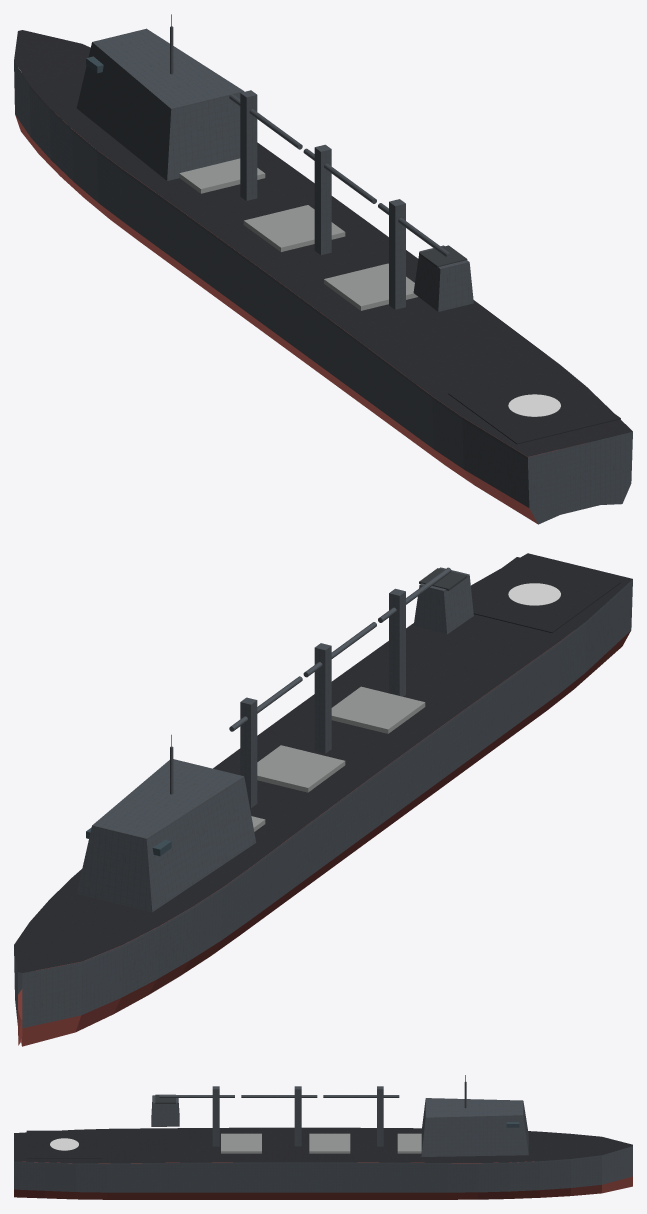
Rendered from type_panshi.glb.
3 renders of one model, top to bottom at view 1: azimuth 30°, elevation 25°; view 2: azimuth 150°, elevation 25°; view 3: azimuth 270°, elevation 25°, orthographic. The views are drawn at different scales.
Visible parts, largest first — view 1: panshi_hull, panshi_bridge, panshi_flightdeck, panshi_funnel, panshi_hatch1, panshi_hatch2, panshi_gantry0, panshi_gantry1, panshi_gantry2, panshi_hatch0, panshi_helo; view 2: panshi_hull, panshi_bridge, panshi_flightdeck, panshi_hatch2, panshi_hatch1, panshi_funnel, panshi_gantry1, panshi_gantry2, panshi_gantry0, panshi_helo; view 3: panshi_hull, panshi_bridge, panshi_flightdeck, panshi_hatch1, panshi_hatch2, panshi_funnel, panshi_hatch0, panshi_gantry2, panshi_gantry1, panshi_gantry0, panshi_helo, panshi_boom0 (+2 smaller).
Part boxes in pixels (x1,y1,x2,y2): panshi_hull: (14,30,632,524); panshi_bridge: (76,28,244,180); panshi_flightdeck: (448,368,620,444); panshi_funnel: (413,245,473,311); panshi_hatch1: (243,205,345,251); panshi_hatch2: (324,263,417,310); panshi_gantry0: (240,90,257,200); panshi_gantry1: (314,144,331,254); panshi_gantry2: (389,199,405,309); panshi_hatch0: (179,158,265,193); panshi_helo: (508,394,560,416); panshi_hull: (14,553,632,1046); panshi_bridge: (76,759,256,912); panshi_flightdeck: (471,557,620,633); panshi_hatch2: (331,686,425,733); panshi_hatch1: (257,745,345,792); panshi_funnel: (413,567,473,634); panshi_gantry1: (314,643,331,753); panshi_gantry2: (389,588,405,696); panshi_gantry0: (240,697,257,808); panshi_helo: (508,583,560,605); panshi_hull: (14,1127,632,1199); panshi_bridge: (421,1098,528,1156); panshi_flightdeck: (26,1130,102,1158); panshi_hatch1: (309,1133,350,1153); panshi_hatch2: (221,1133,261,1153); panshi_funnel: (151,1095,179,1126); panshi_hatch0: (397,1133,421,1153); panshi_gantry2: (212,1086,219,1146); panshi_gantry1: (294,1086,301,1146); panshi_gantry0: (377,1086,383,1146); panshi_helo: (50,1138,78,1150); panshi_boom0: (323,1095,399,1097).
Bounding box in the file's own units: 25.9 × 41.1 × 196.
7 materials, 2 textured.
